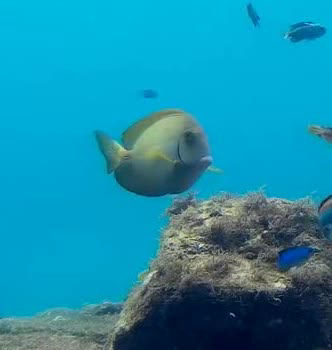smallfish: (96, 104, 212, 200)
